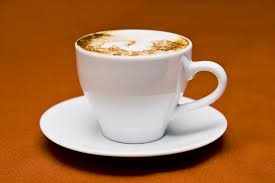cup: (70, 29, 233, 145)
